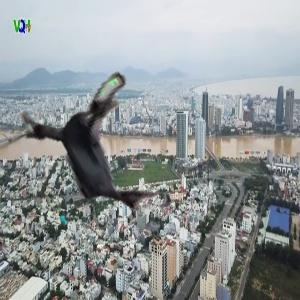drone: (11, 60, 193, 242)
